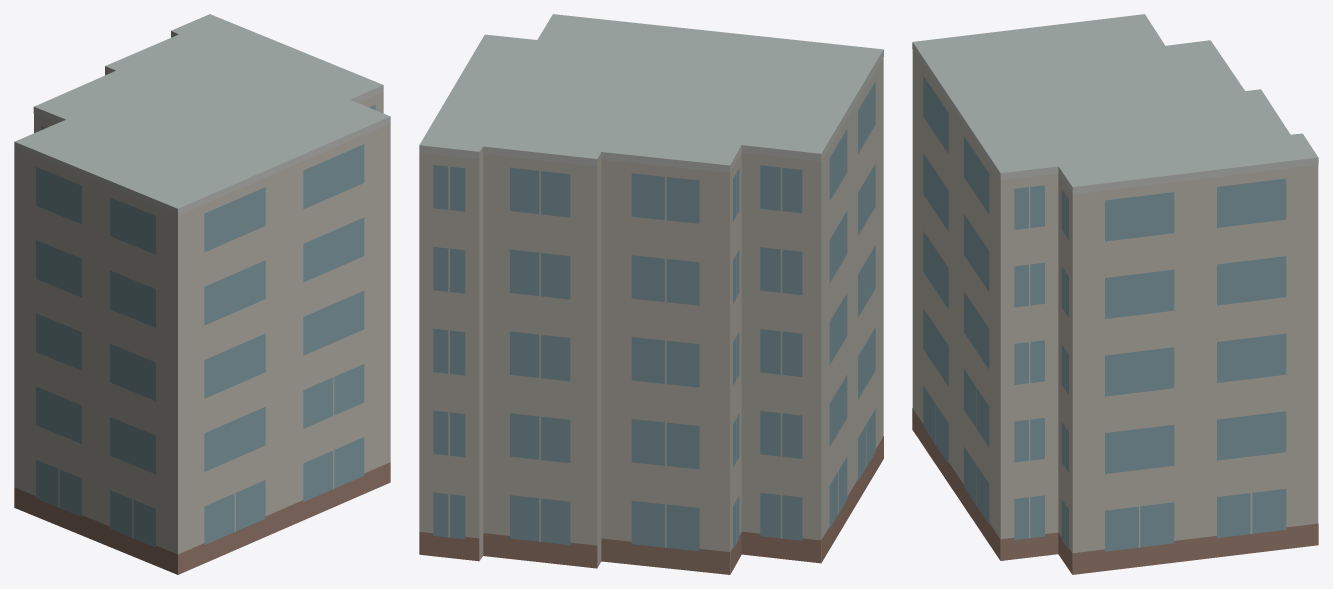
File: survey-upis-32502497.glb
3 renders of one model, left to right at view 1: azimuth 30°, elevation 25°; view 2: azimuth 150°, elevation 25°; view 3: azimuth 270°, elevation 25°, orthographic. The views are drawn at different scales.
Parts seen in each view (by area): view 1: survey-upis-32502497.tmp; view 2: survey-upis-32502497.tmp; view 3: survey-upis-32502497.tmp.
Boxes of the visible parts, x1,y1,x2,y2 form: survey-upis-32502497.tmp: (14,14,390,574); survey-upis-32502497.tmp: (419,14,883,574); survey-upis-32502497.tmp: (912,14,1318,574).
Bounding box in the file's own units: 12.56 × 13.1 × 12.44.
